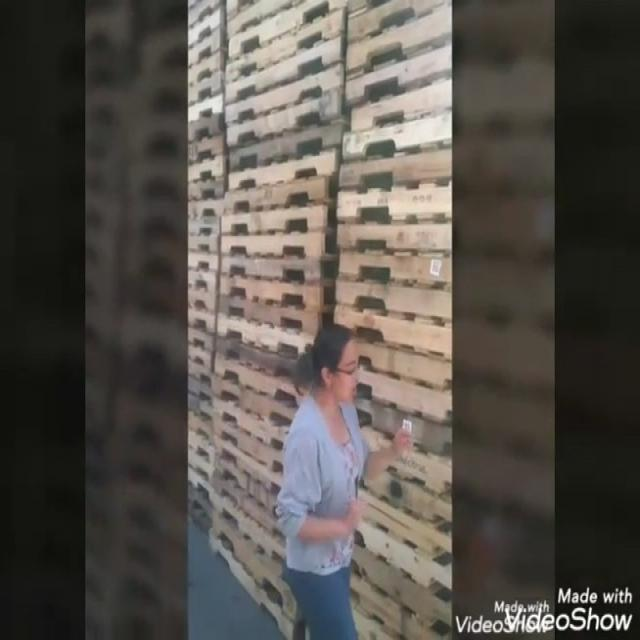Palette: (202, 0, 344, 640), (333, 0, 452, 640), (186, 0, 225, 536)
